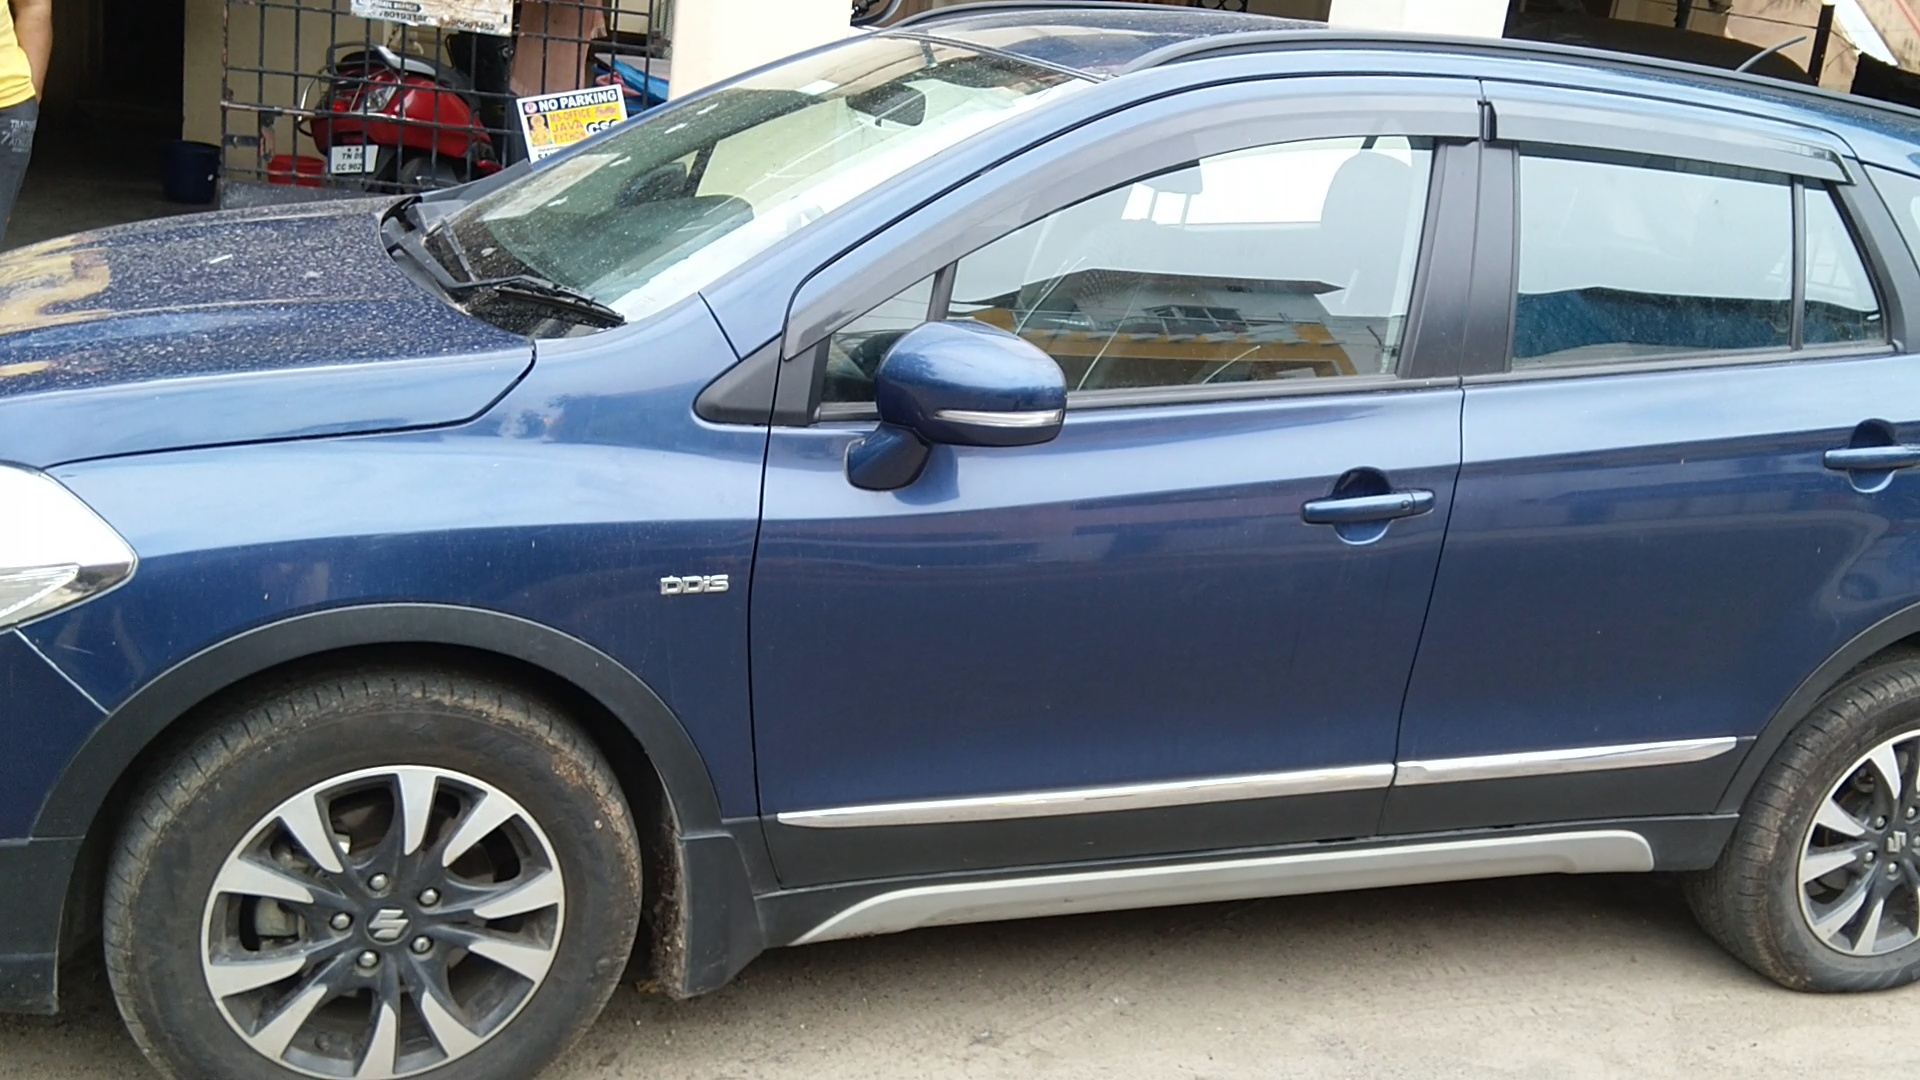alloy_wheel: (91, 694, 626, 1080), (1758, 661, 1920, 1022)
ovr_mirror: (847, 299, 1076, 508)
